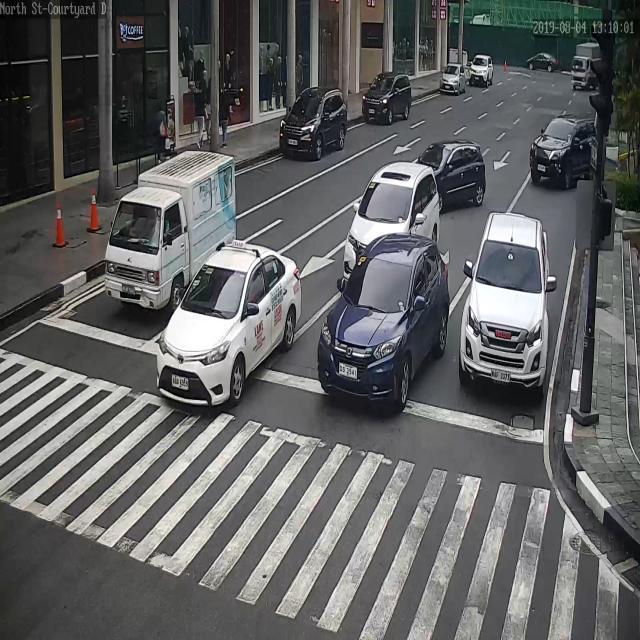car: (155, 242, 301, 409), (317, 229, 449, 408), (459, 210, 551, 387), (281, 86, 348, 160), (529, 114, 596, 186), (417, 140, 485, 209), (363, 71, 412, 124), (469, 55, 494, 88), (440, 63, 466, 94), (527, 52, 558, 71)
motorcycle: (571, 43, 602, 89)
van: (103, 148, 236, 310), (344, 162, 441, 284)
